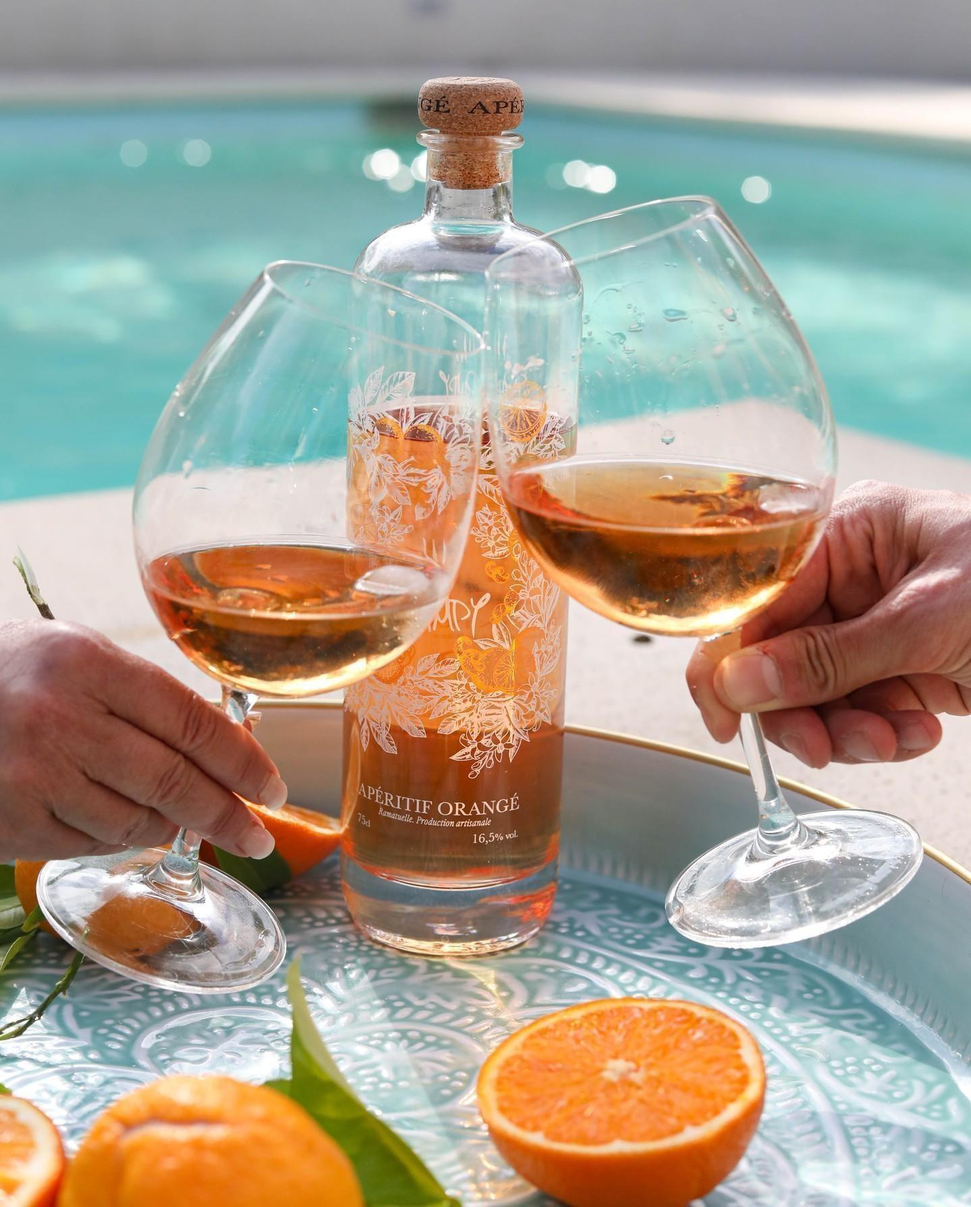bottle-glass: (334, 68, 592, 959)
glass-wine: (26, 244, 501, 1011), (485, 178, 932, 973)
